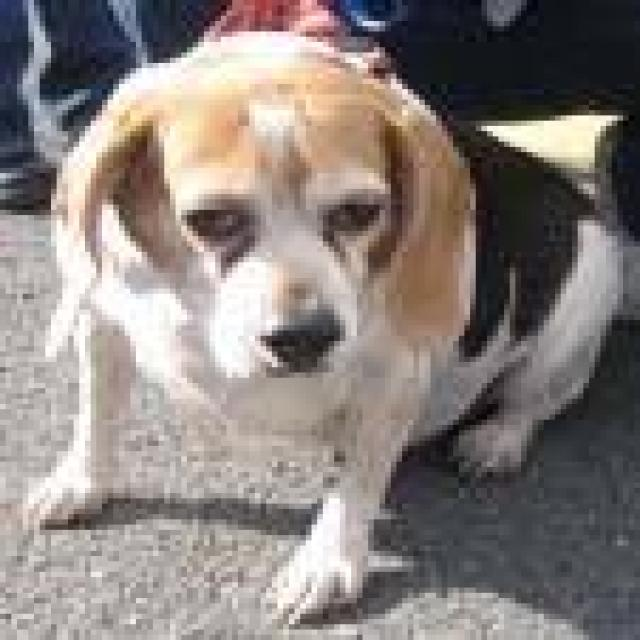sad: (36, 19, 605, 574)
